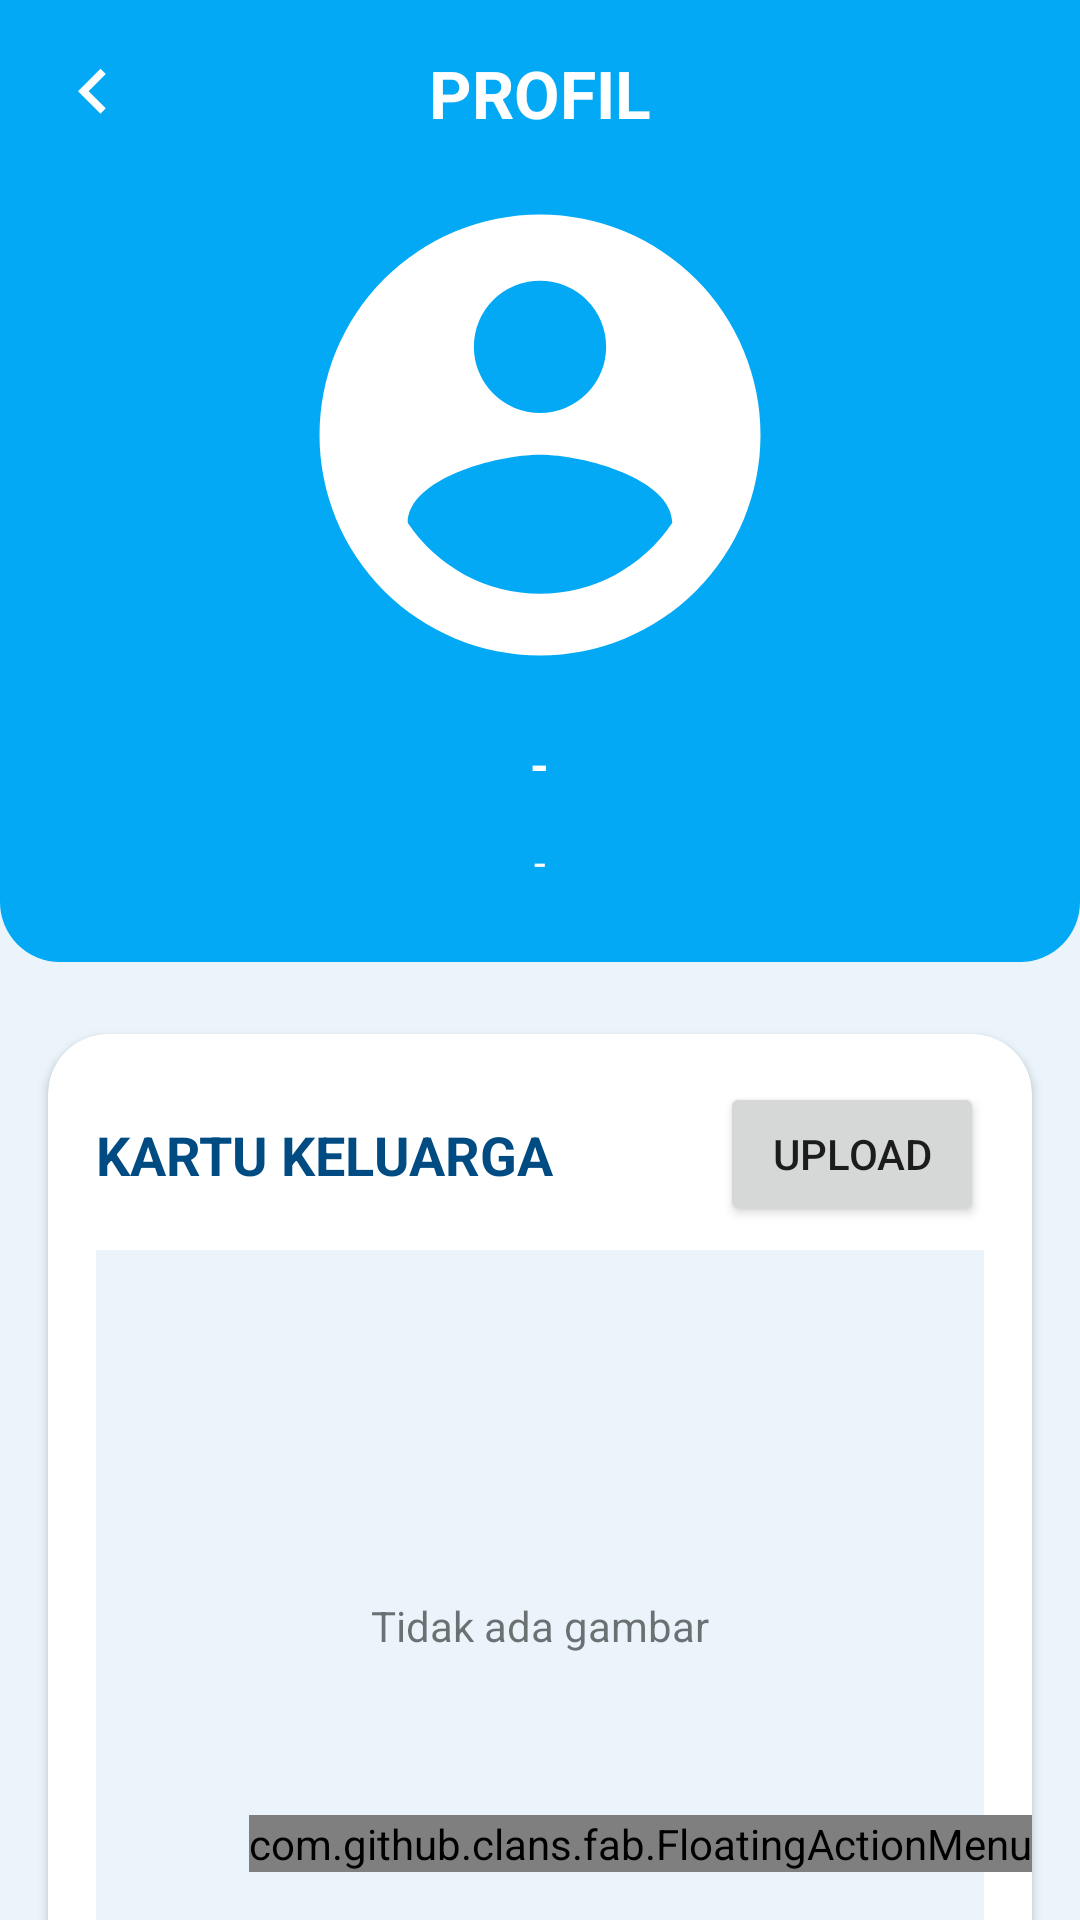

Where icons sit on this 1080px x 1920px app screen, as bbox(x1, y1, x2, y2):
keyboard arrow left: bbox(78, 69, 106, 114)
